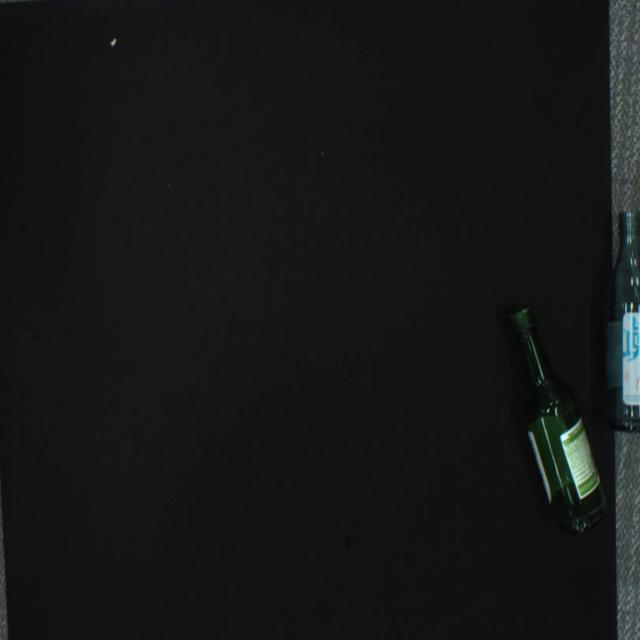soju-bottle: (510, 308, 608, 532), (605, 210, 640, 431)
